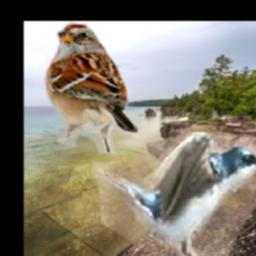Sparrow: (44, 22, 138, 153)
Swallow: (92, 126, 256, 256)
